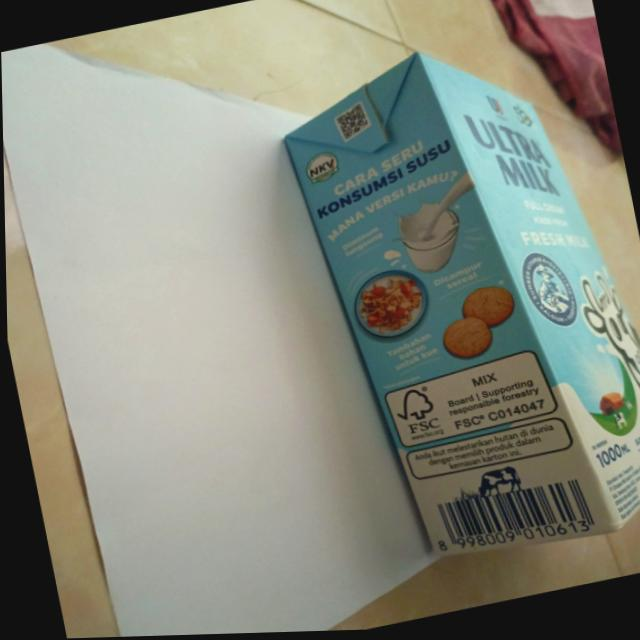indomie-mie-kocok-bandung: (265, 17, 640, 587)
